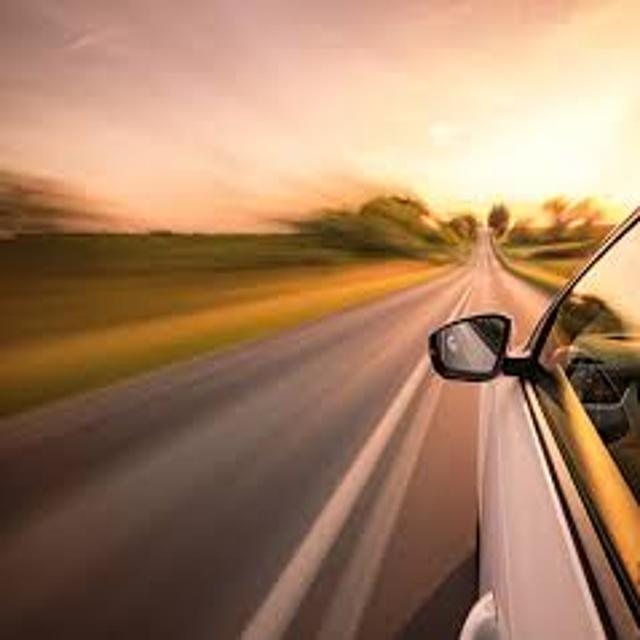car: (429, 207, 640, 640)
